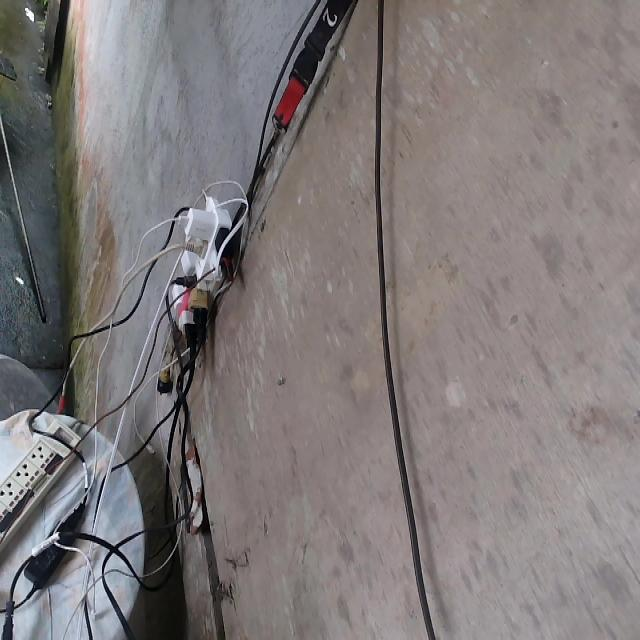-: (157, 191, 240, 344)
